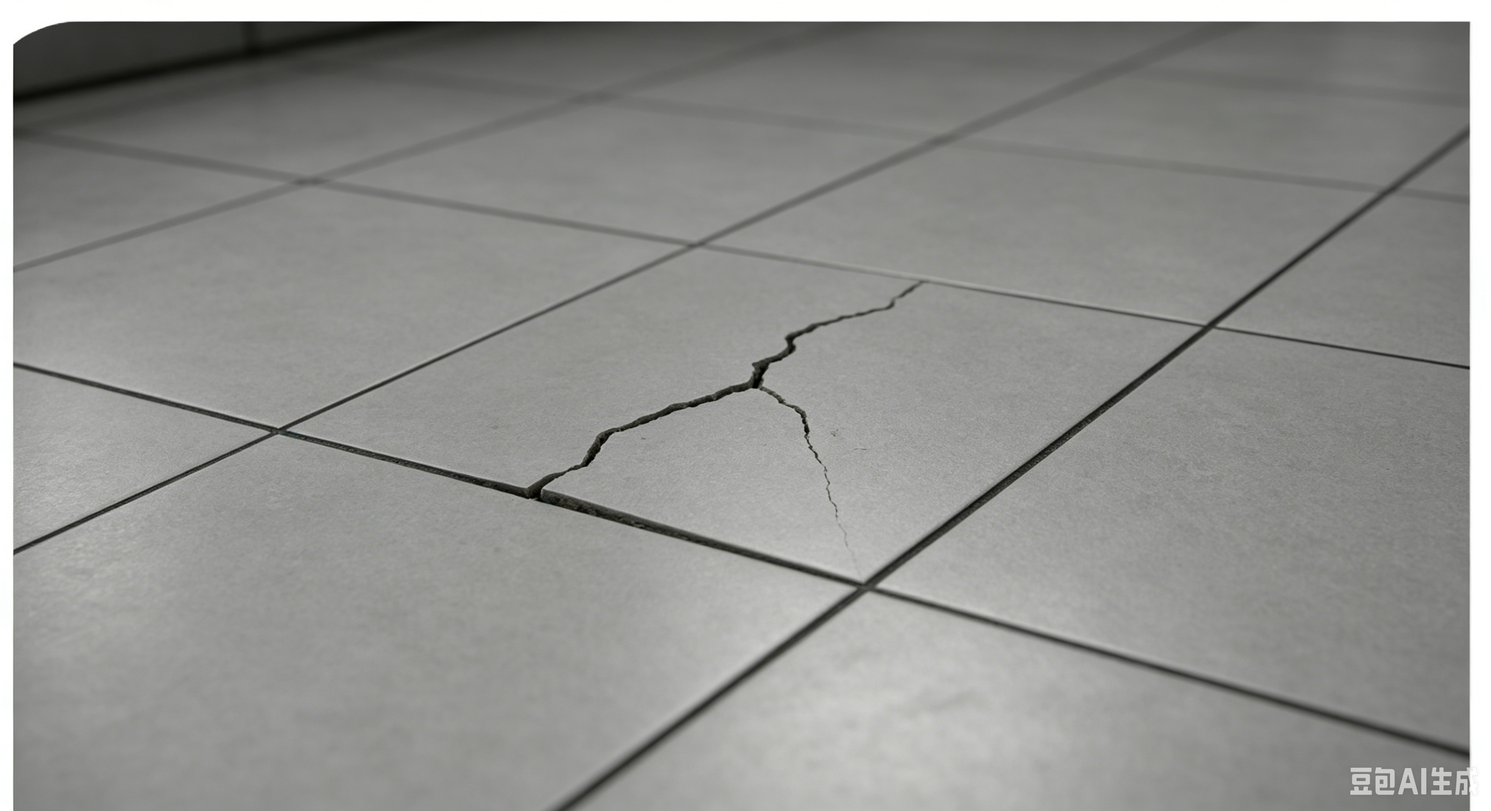floor_defect: (437, 454, 645, 532), (775, 392, 851, 541), (557, 401, 732, 451), (688, 347, 788, 406), (775, 311, 877, 357), (857, 270, 929, 309)
